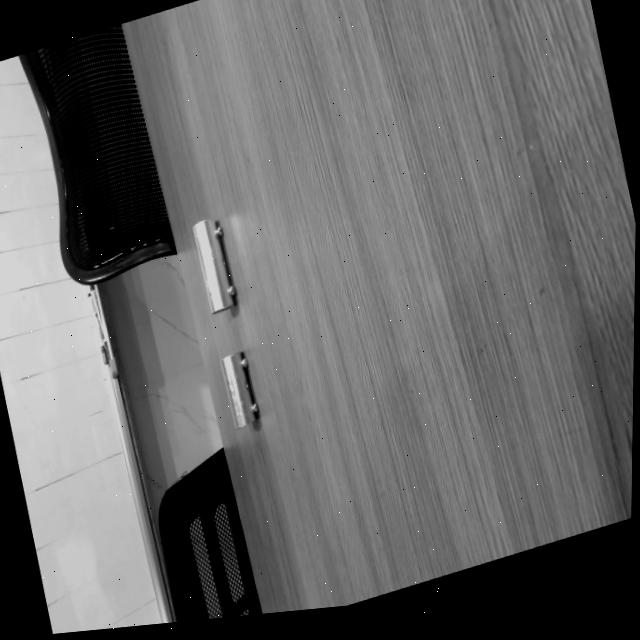Co_Lon: (190, 214, 237, 312)
Co_Nho: (217, 350, 261, 428)
